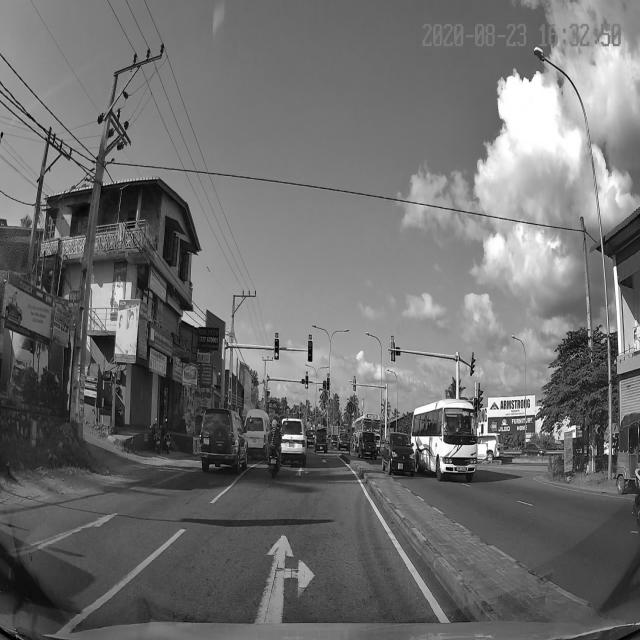forward_right: (56, 524, 453, 622), (54, 540, 454, 623), (52, 547, 454, 623), (55, 551, 453, 621)
